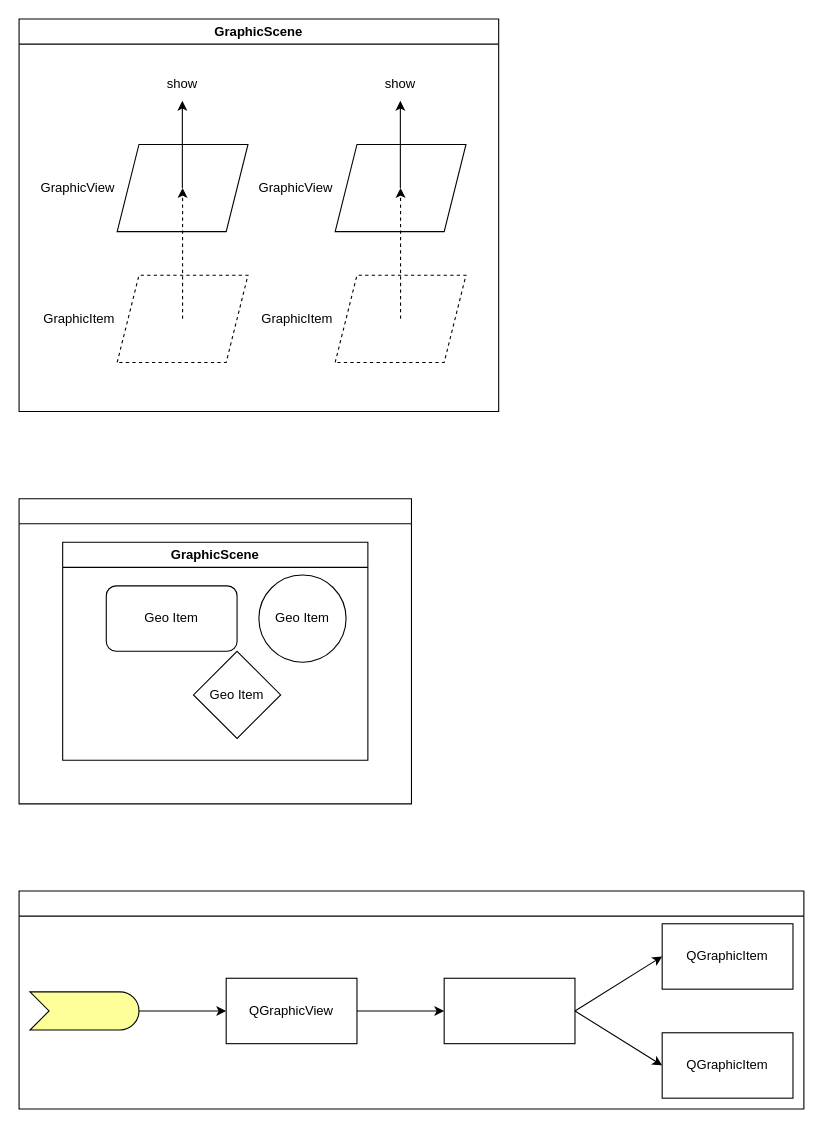
This 823x1128 diagram has some shape labels left out. The box of each missing label's shape, as (x1, y1, x2, y2) in pixels:
event: (29, 991, 139, 1030)
GraphicView -> show: (18, 498, 411, 804)
QGraphics Event傳遞: (18, 890, 804, 1109)
QGraphicScene: (443, 977, 575, 1044)
